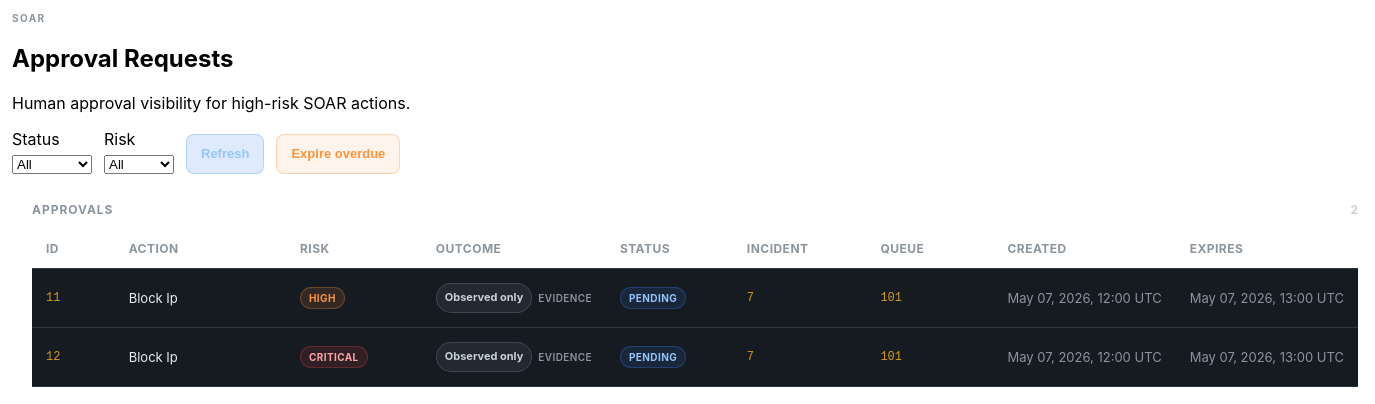
Test: ApprovalsPanel › risk filter is applied client-side
Expected: the text "Block Ip" is shown 2 times, [115,268,286,327]; [115,327,286,386]
Select "Critical" in the dropdown labelled "Risk". click: (139, 164)
box: [104,155,174,174]
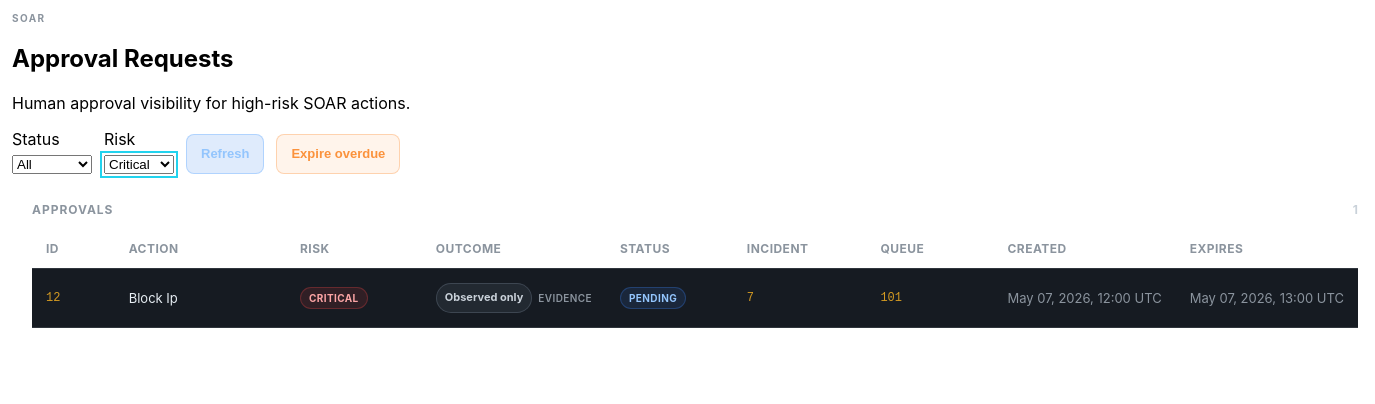
Expected: the text "12" is shown, [32,268,115,327]
Expected: the text "11" is gone
